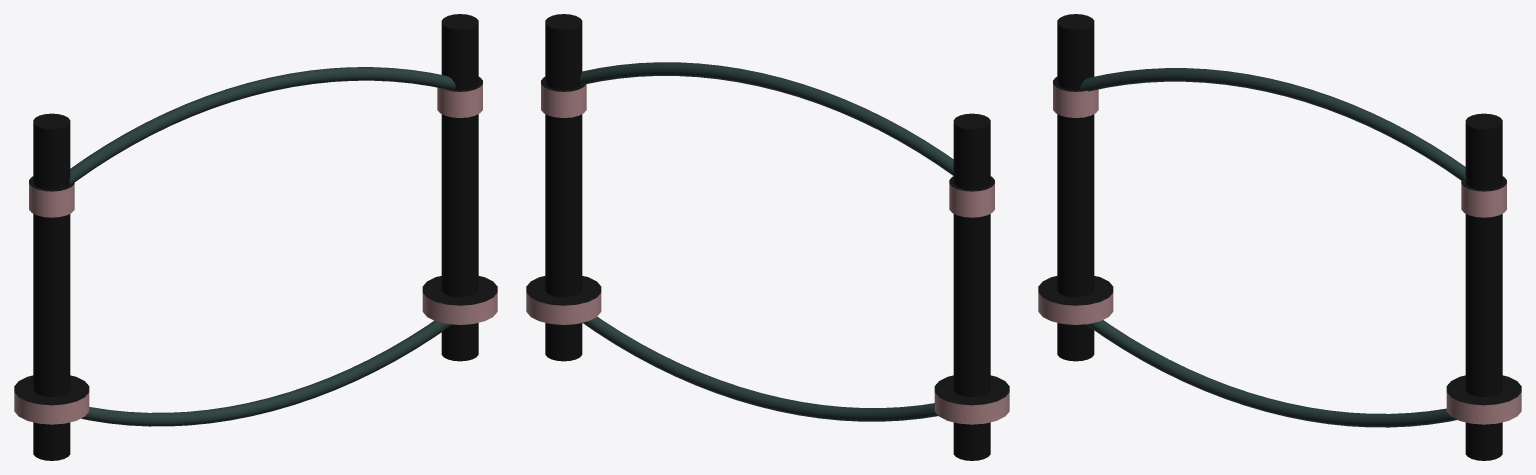
The model's file is truc au mur 1.fbx.
3 renders of one model, left to right at view 1: azimuth 30°, elevation 25°; view 2: azimuth 150°, elevation 25°; view 3: azimuth 330°, elevation 25°, orthographic.
Visible parts, largest first — view 1: truc au mur; view 2: truc au mur; view 3: truc au mur.
Part boxes in pixels (box(x1,y1,x2,y2)): truc au mur: box(14, 14, 497, 460); truc au mur: box(526, 14, 1009, 460); truc au mur: box(1038, 14, 1521, 460).
Bounding box in the file's own units: 741 × 507 × 102.
